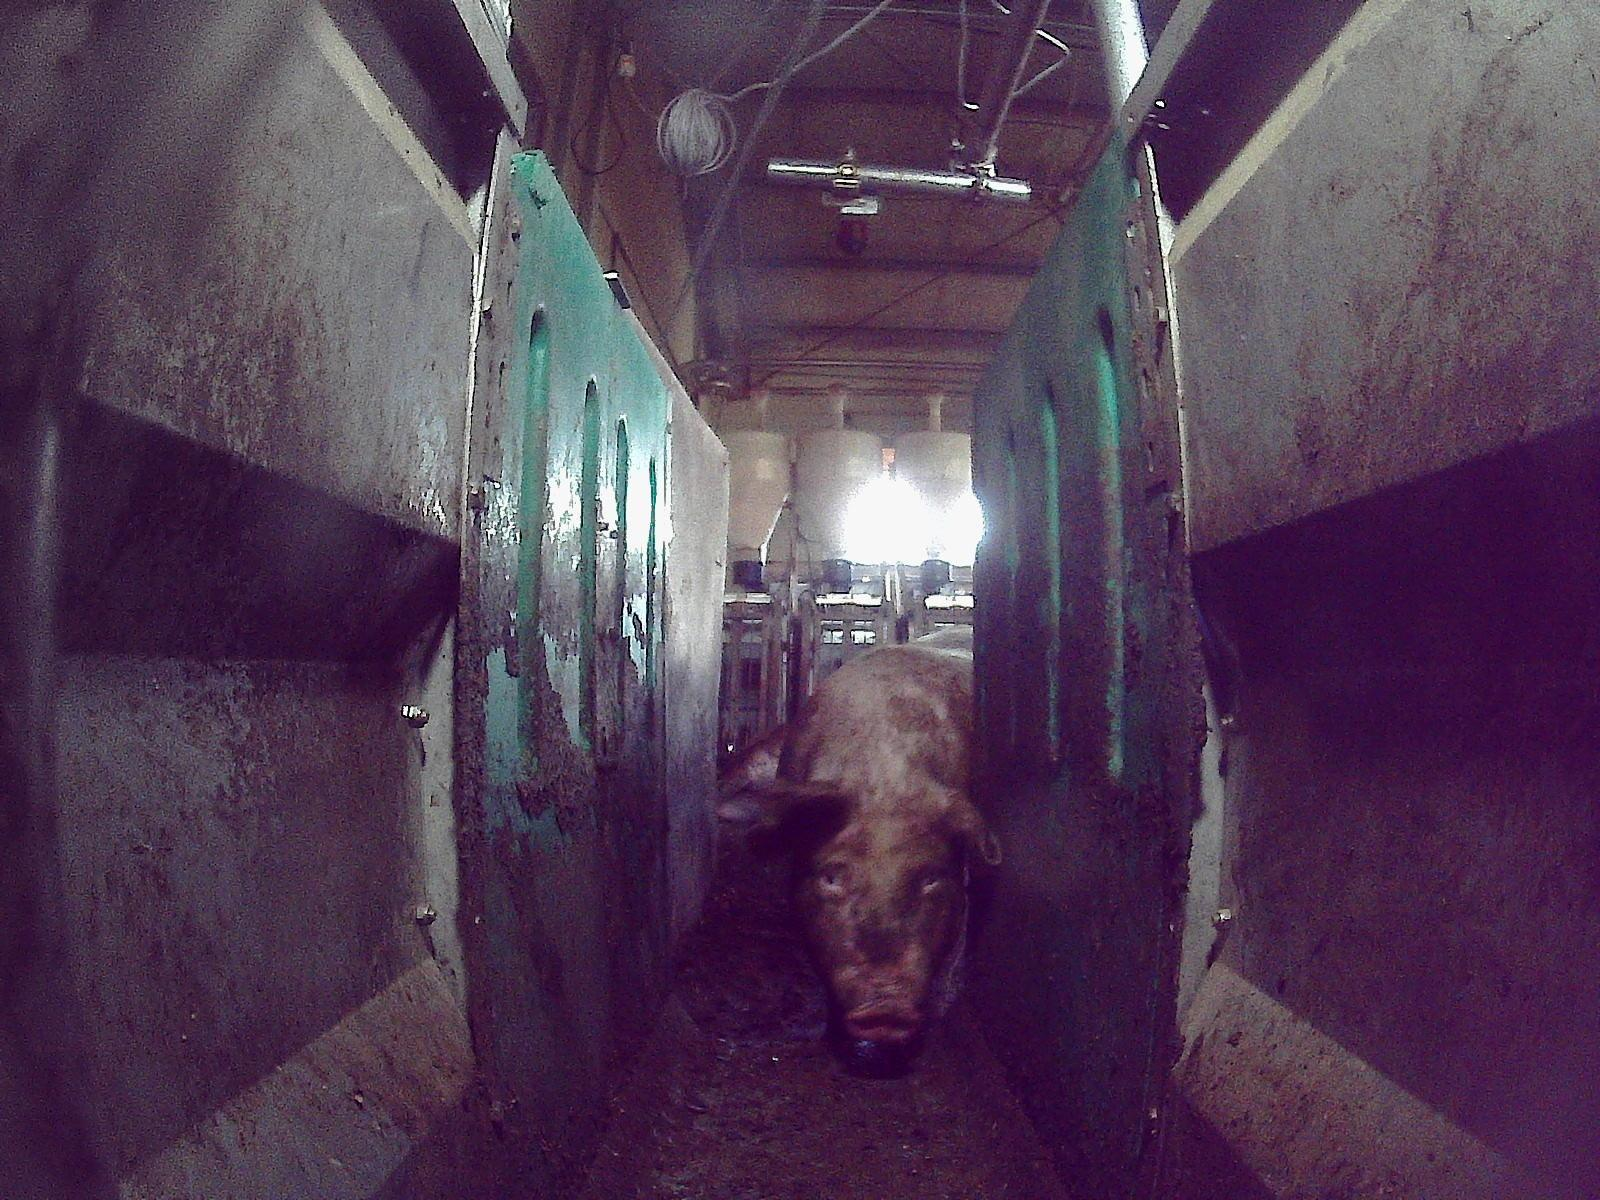Face: (788, 793, 967, 1045)
